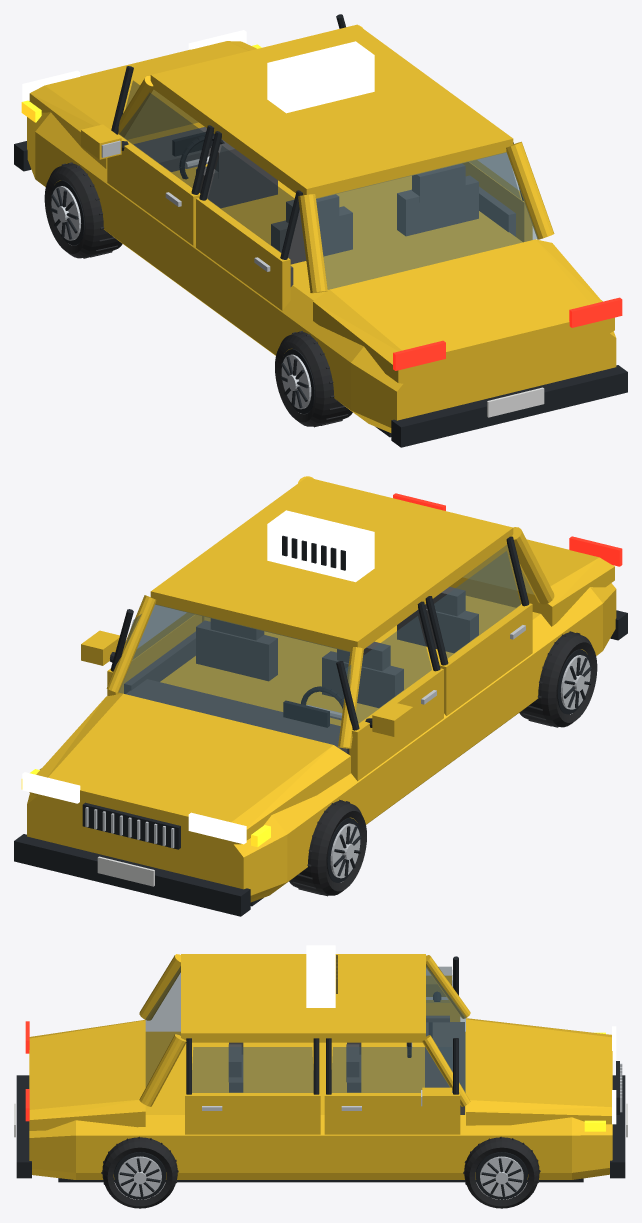
The model's file is taxi.glb.
3 views of the same model, one above another, from view 1: azimuth 30°, elevation 25°; view 2: azimuth 150°, elevation 25°; view 3: azimuth 270°, elevation 25° (orthographic). The views are drawn at different scales.
Parts seen in each view (by area): view 1: Body, Door_FL, Door_RL, Wheel_FL, Wheel_RL, Door_RR; view 2: Body, Door_RL, Door_FL, Door_FR, Wheel_RL, Wheel_FL; view 3: Body, Door_RR, Door_FR, Wheel_RR, Wheel_FR, Door_FL.
Boxes of the visible parts, box(x1,y1,x2,y2) form: Body: box(14, 24, 627, 447); Door_FL: box(81, 66, 214, 245); Door_RL: box(196, 131, 302, 310); Wheel_FL: box(44, 162, 122, 258); Wheel_RL: box(275, 331, 352, 427); Door_RR: box(462, 142, 532, 242); Body: box(14, 476, 627, 916); Door_RL: box(425, 536, 532, 715); Door_FL: box(336, 601, 443, 781); Door_FR: box(81, 605, 201, 695); Wheel_RL: box(519, 631, 597, 727); Wheel_FL: box(289, 799, 366, 896); Body: box(14, 945, 627, 1182); Door_RR: box(185, 1038, 320, 1134); Door_FR: box(324, 1038, 460, 1134); Wheel_RR: box(101, 1136, 178, 1208); Wheel_FR: box(463, 1136, 540, 1208); Door_FL: box(426, 956, 460, 1022).
Size of what is drawn, in the model's own units: 2.41 by 1.83 by 5.21.
